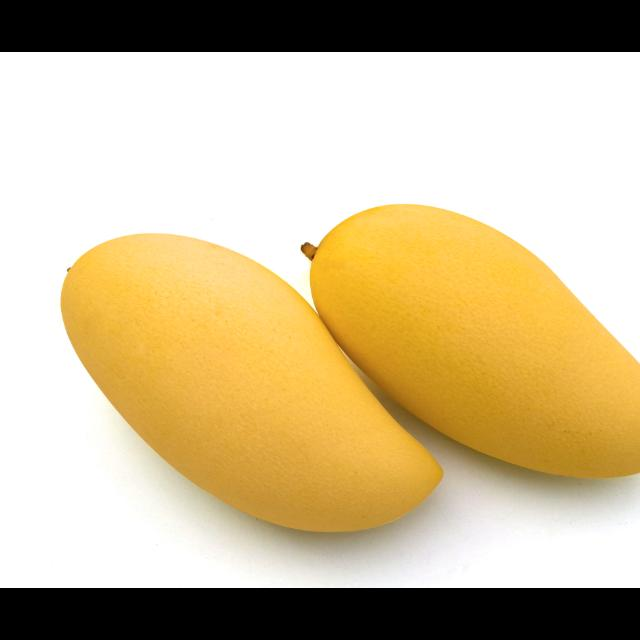mango: (63, 231, 445, 533), (313, 200, 640, 482)
